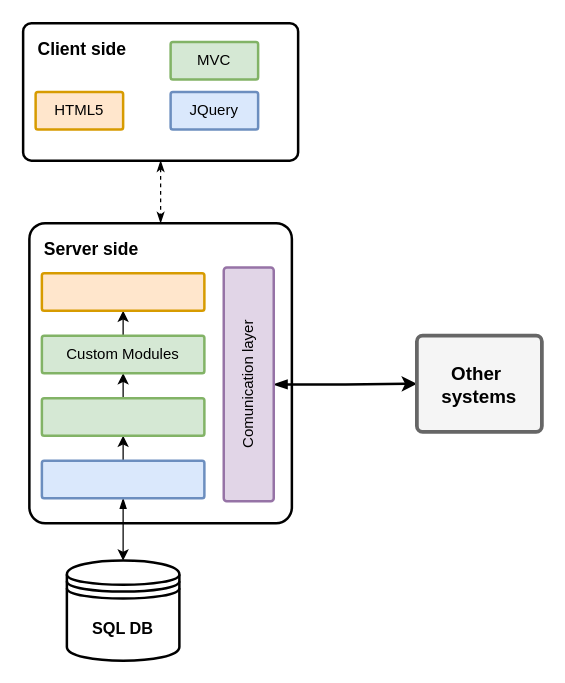
This 565x683 diagram has some shape labels left out. The shapes that lost their labels are listed below. From the top down, each one's box as (x1, y1, x2, y2) in pixels, then its label:
(40, 271, 205, 311): Presentation
(40, 396, 205, 436): Core Modules
(40, 459, 205, 499): Dao
